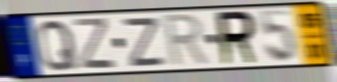5: (255, 7, 300, 65)
Q: (36, 18, 80, 74)
R: (162, 11, 213, 70), (215, 9, 261, 68)
Z: (72, 16, 118, 71), (122, 15, 167, 69)
